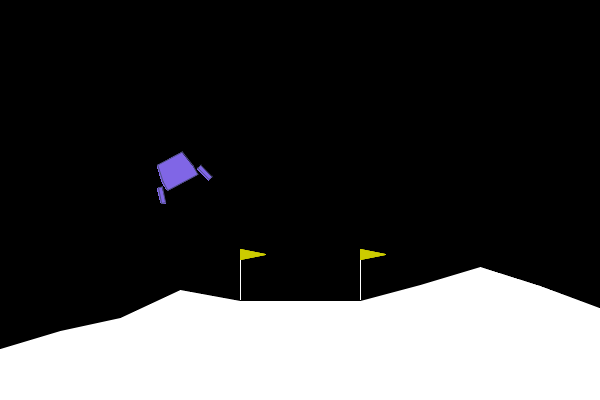lander: (142, 143, 214, 207)
